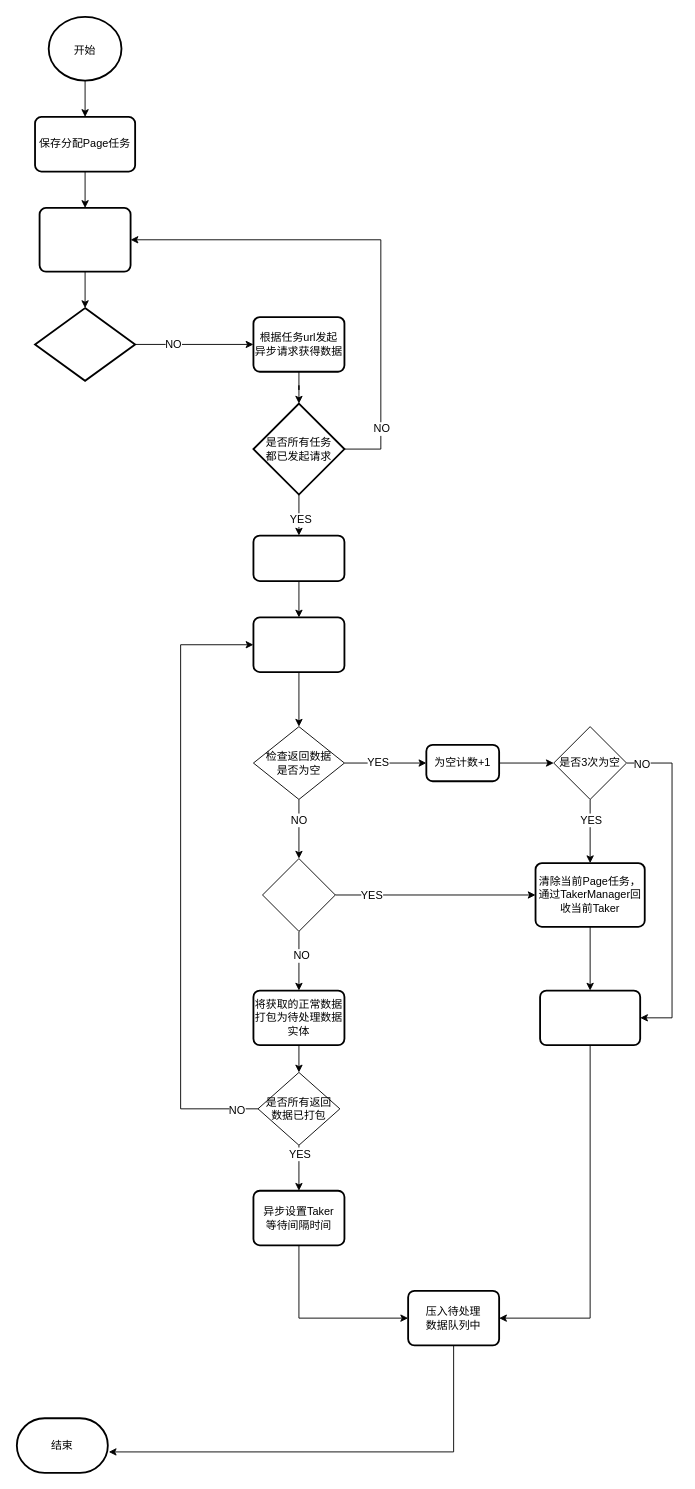
The diagram is 695 pixels wide and 1489 high, and some of its shapes have lost their labels. The shapes that lost their labels are listed below. From the top down, each one's centre as x and y in pixels, then its label:
the point at 84,239: 循环Page中 每一个基础任务BaseTask
the point at 85,344: 是否Push模式数据
the point at 298,557: 等待所有请求返回
the point at 298,644: 循环每一个 请求返回数据
the point at 298,894: 数据是否 为登出
the point at 590,1017: 标明获取数据异常打包为待处理数据实体
